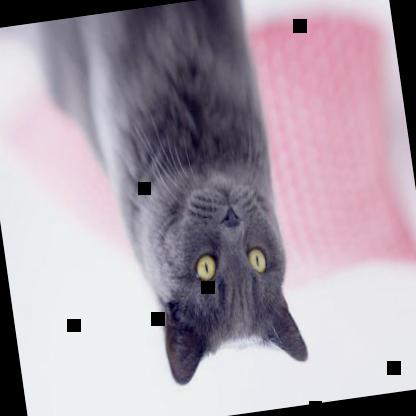cat: (33, 0, 312, 402)
